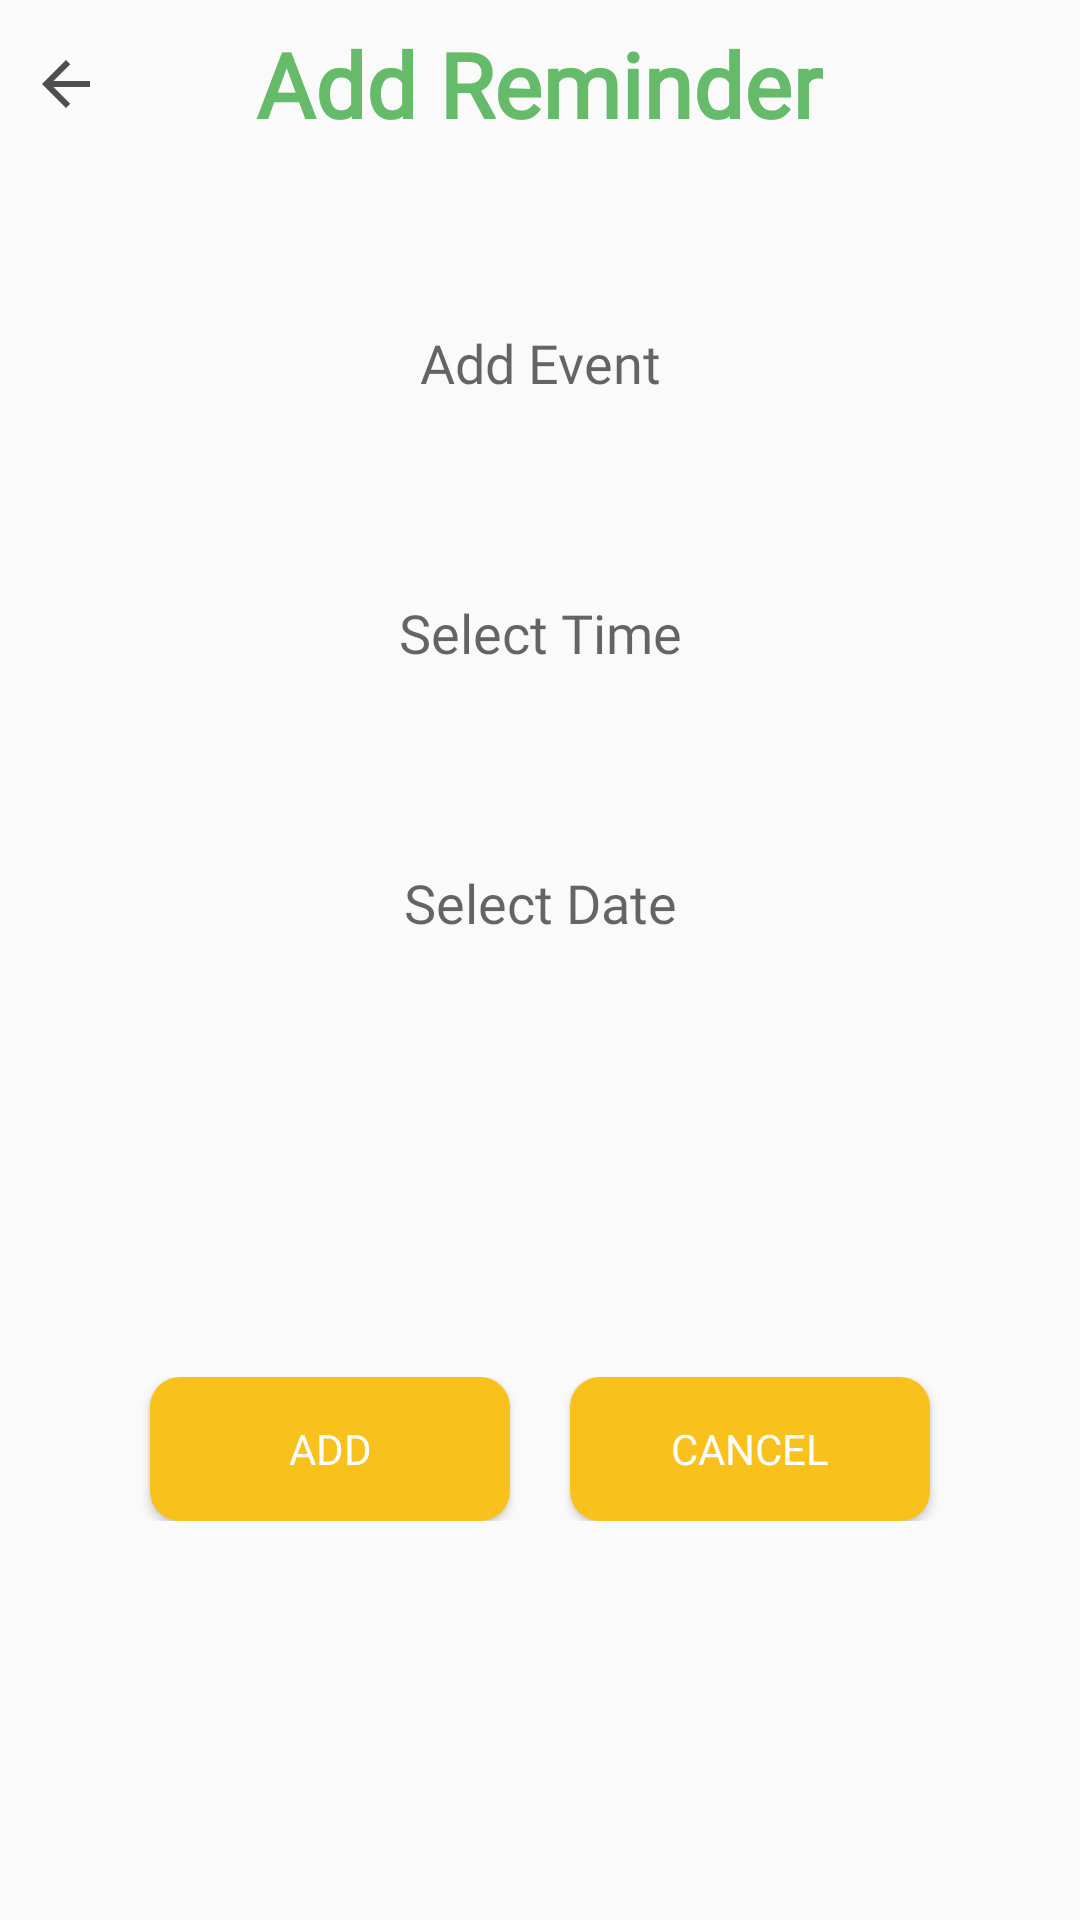

Point at icon controls on the screen. Image size 1080px×1920px, points as point (x, y).
arrow back: point (66, 84)
